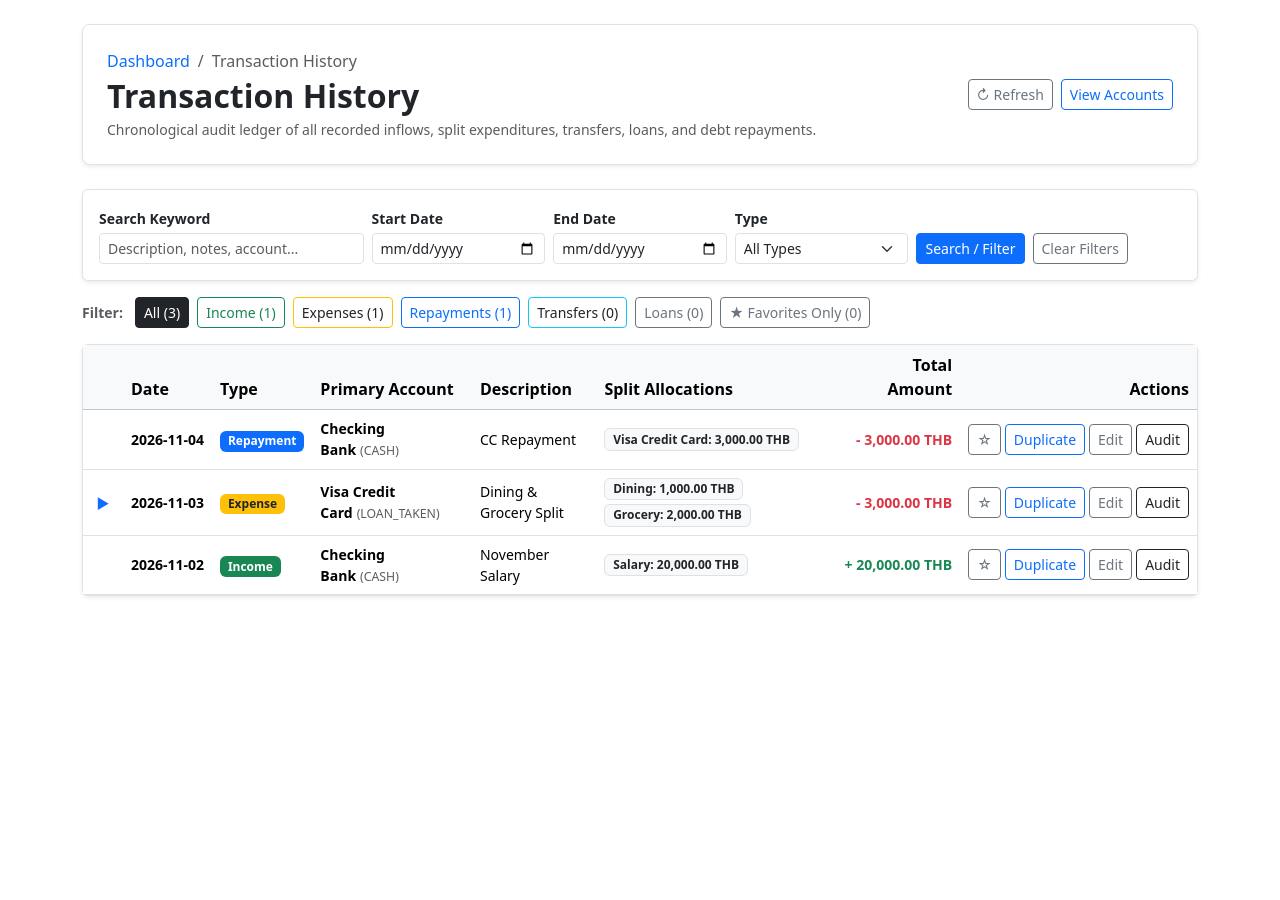
it: Frontend Transaction History Suite (WP-06, Feature F-09, AC-09-1) › TEST-UI-FAV-02: opens duplicate modal, submits duplicateTransaction, and displays 422 errors (F-14, AC-14-2..3)
Click the button with test id "btn-duplicate-tx-purchase" at (1045, 502), box left=1005, top=487, right=1085, bottom=518
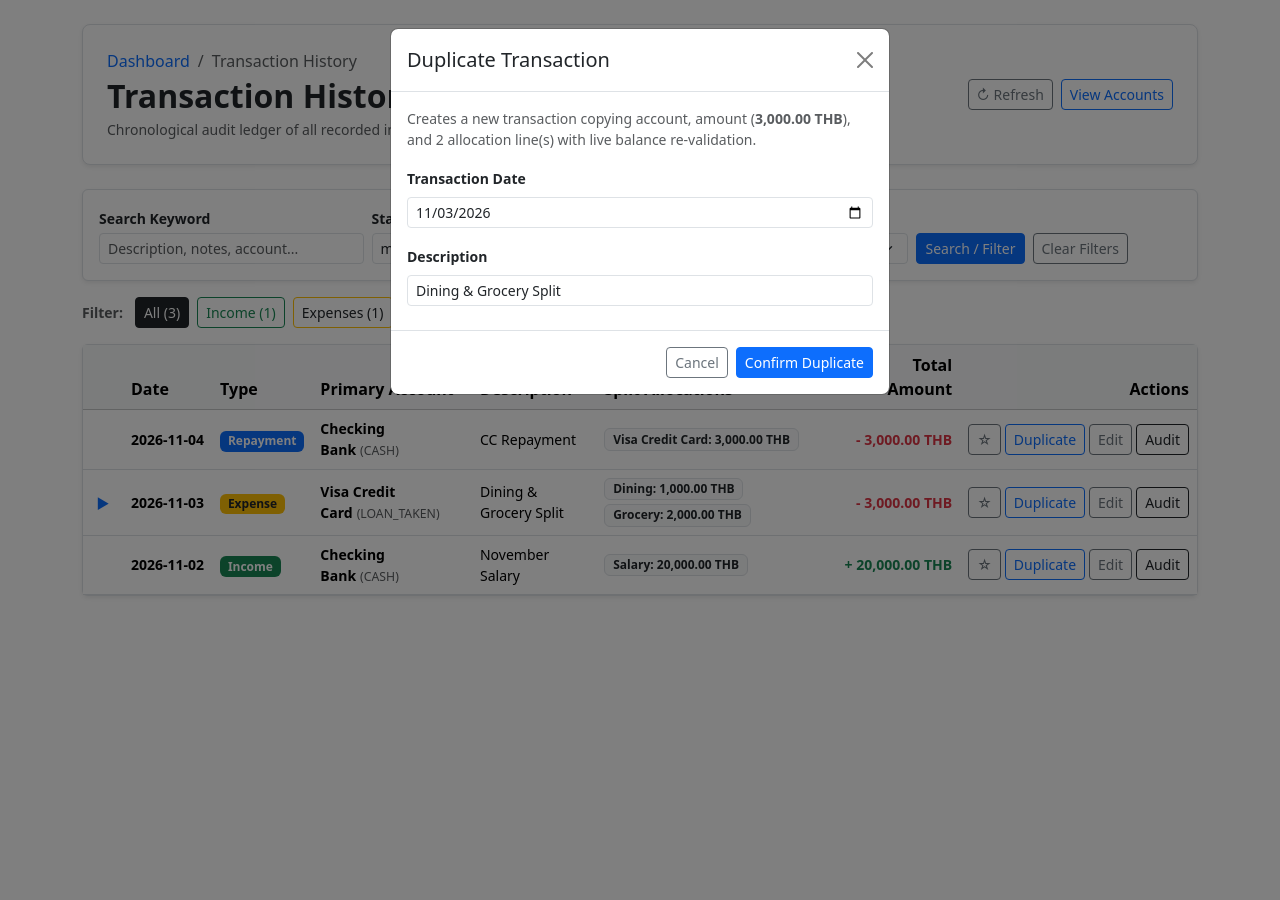
Expected: the element with test id "duplicate-modal" is shown
Type "2026-11-15" into the date field with test id "duplicate-date-input" at (640, 212), box left=407, top=197, right=873, bottom=228
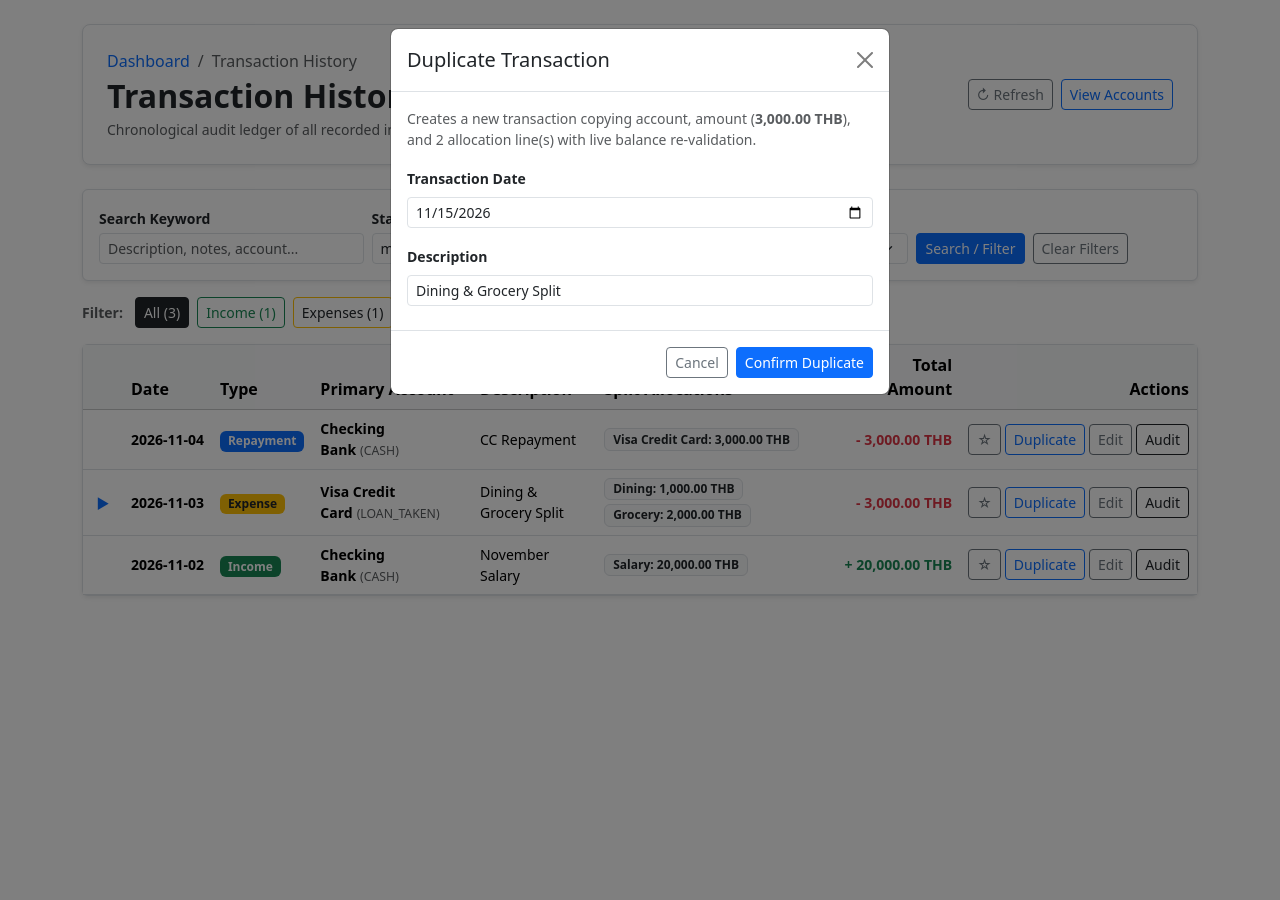
Click the button with test id "btn-confirm-duplicate" at (804, 362), box left=736, top=347, right=873, bottom=378
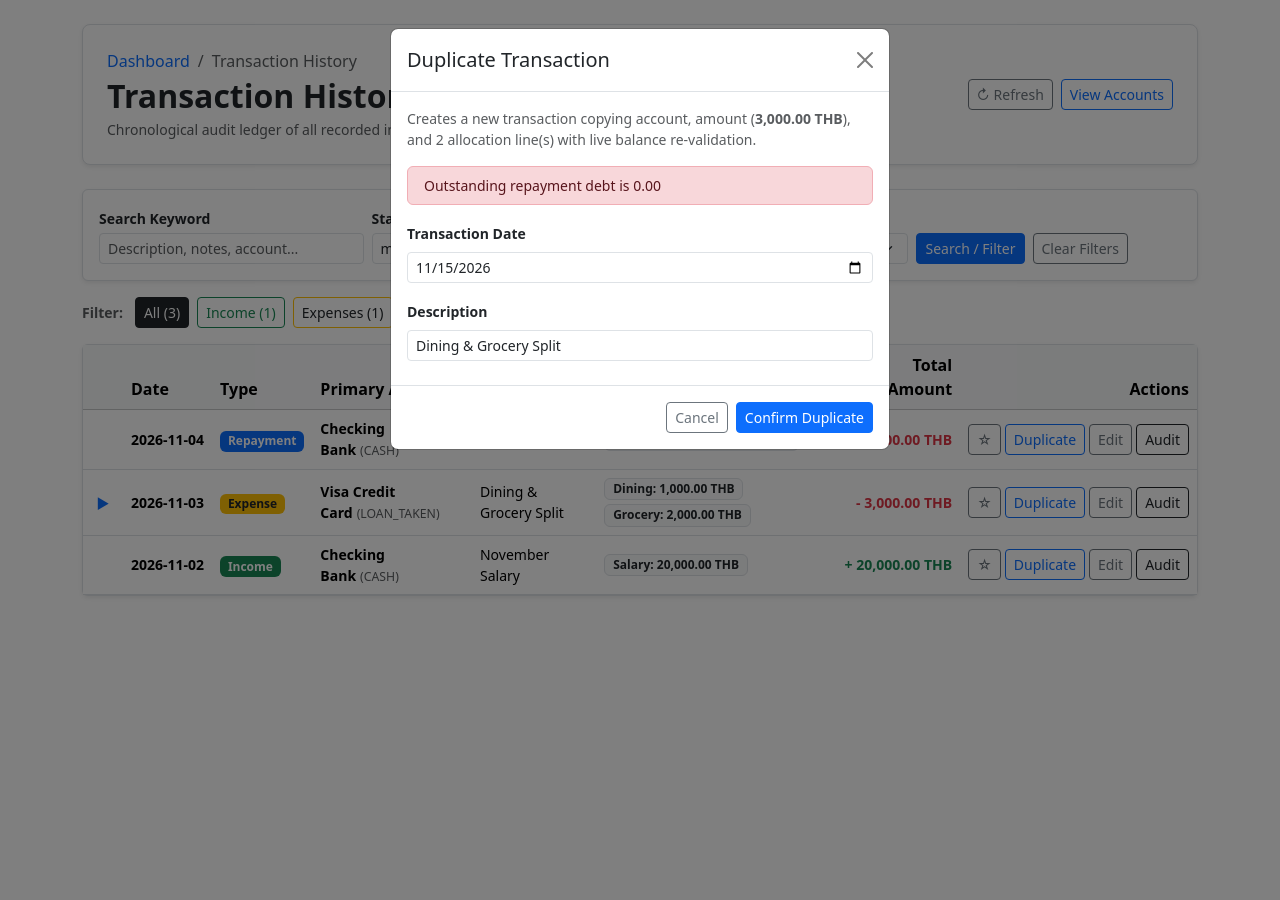
Expected: the message with test id "duplicate-error" reads "Outstanding repayment debt is 0.00", left=424, top=176, right=661, bottom=195
Click the button with test id "btn-confirm-duplicate" at (804, 418), box left=736, top=402, right=873, bottom=433
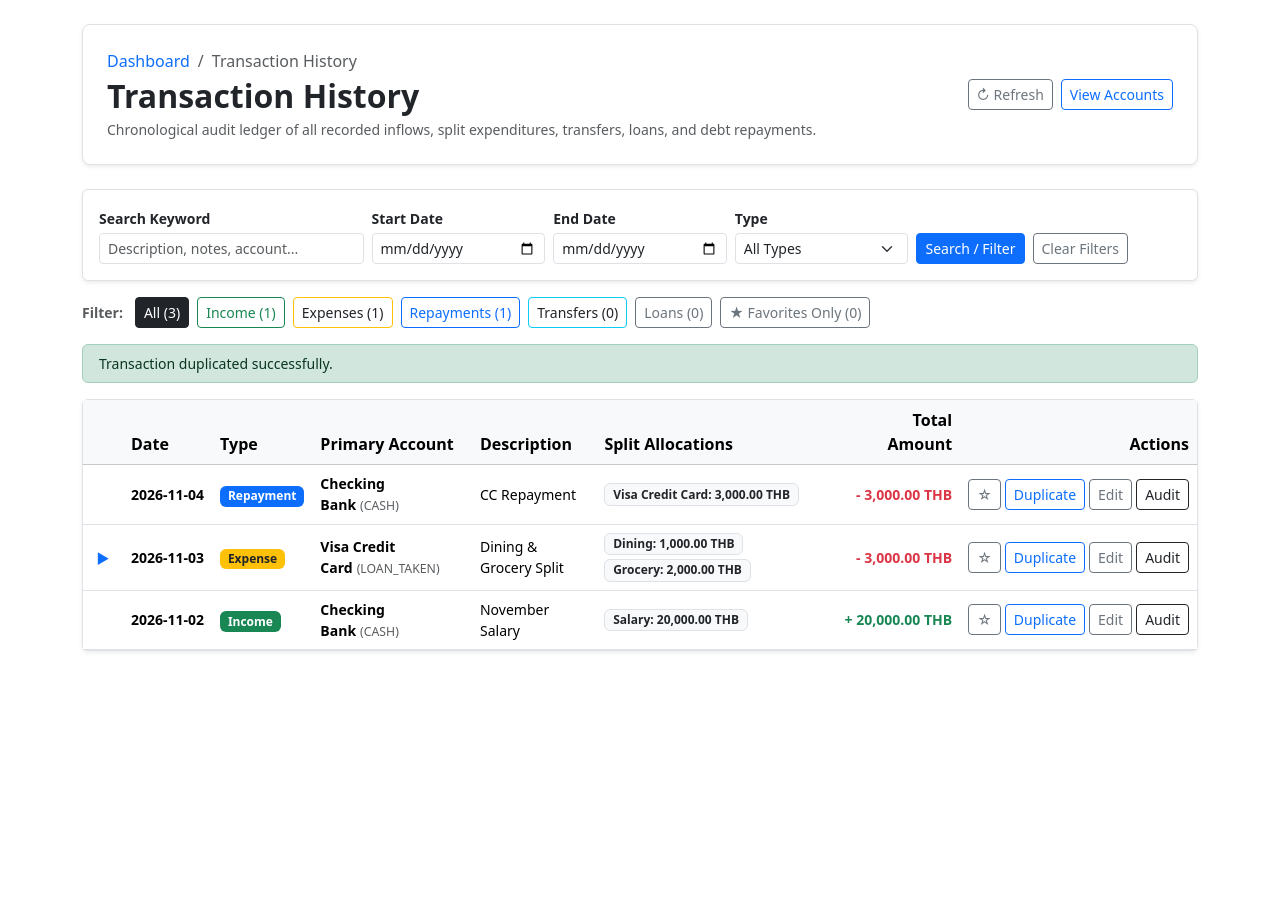
Expected: the element with test id "duplicate-modal" is gone
Expected: the message with test id "history-feedback" shows "duplicated successfully", left=99, top=354, right=333, bottom=373
